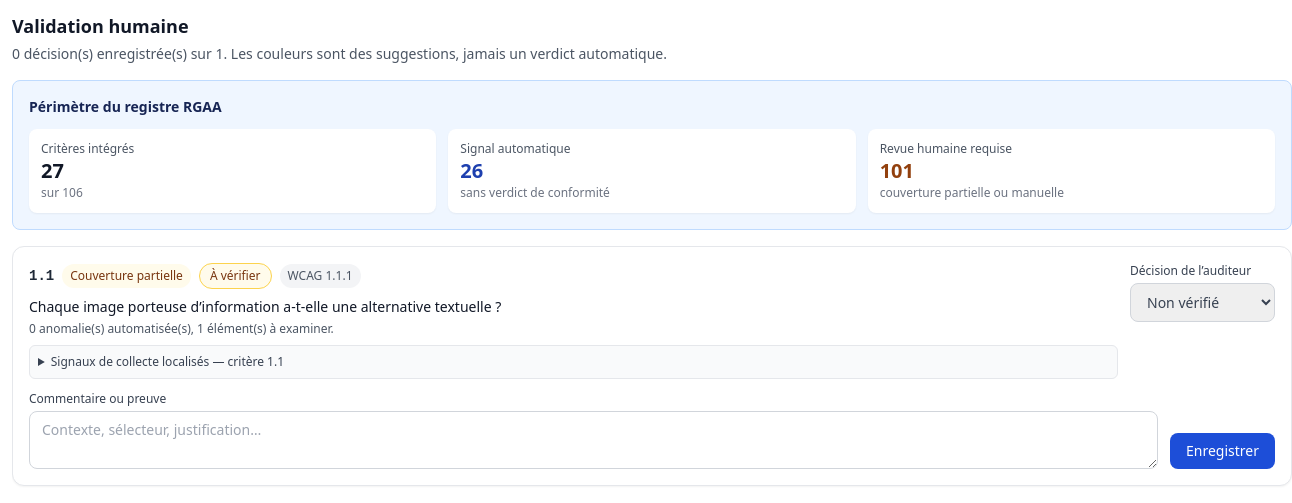
Test case: ReviewWorkspace › enregistre une décision humaine et son commentaire depuis le résultat
Select "Non conforme" in the dropdown named "Décision humaine pour le critère 1.1". click: (1202, 302)
box: [1130,283,1275,322]
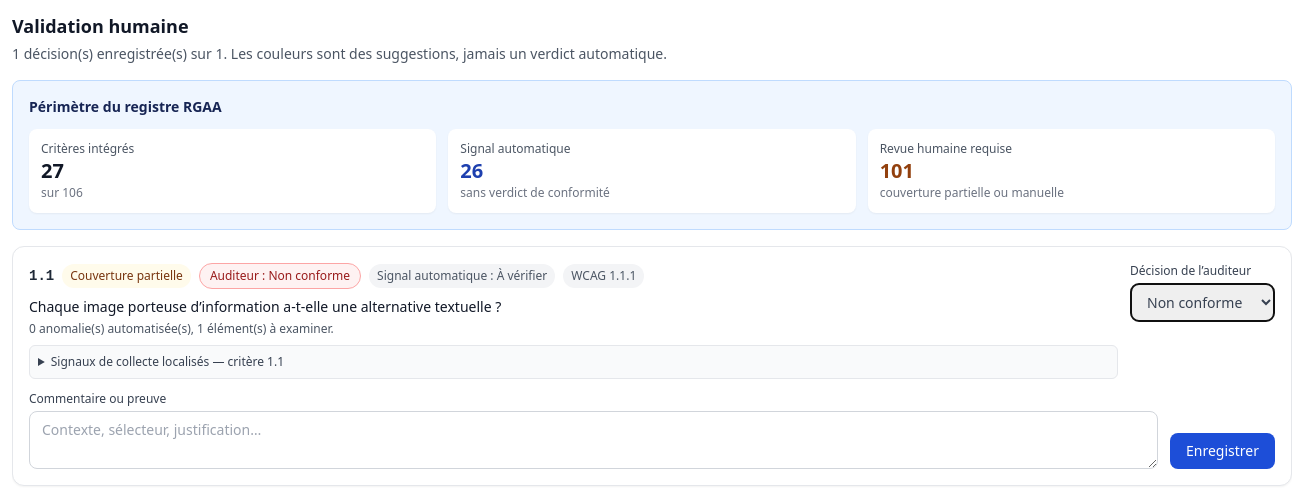
Type "Alt à corriger sur le logo." into the text box labelled "Commentaire ou preuve". click: (594, 440)
box: [29,411,1158,469]
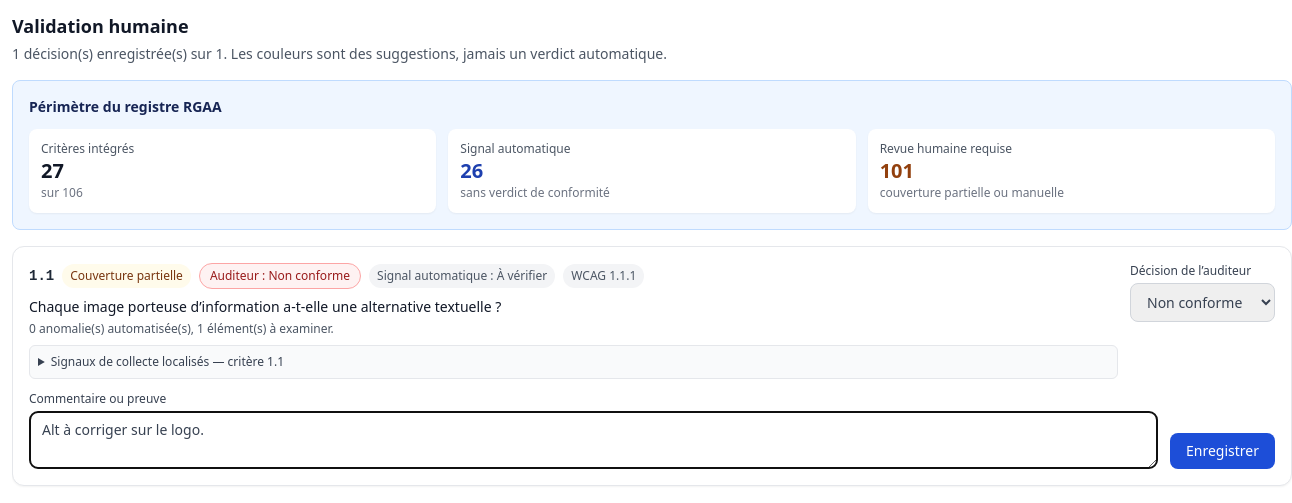
Click the button "Enregistrer". click: click(1222, 451)
box: [1170,433,1275,469]
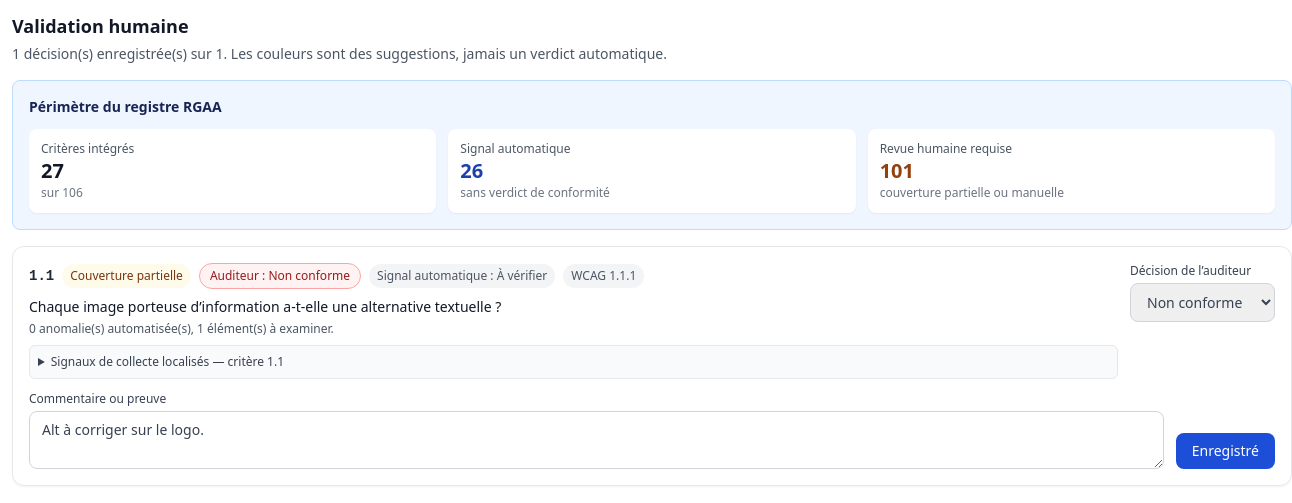
Result: the button "Enregistré" is shown at [1176,433,1275,469]
